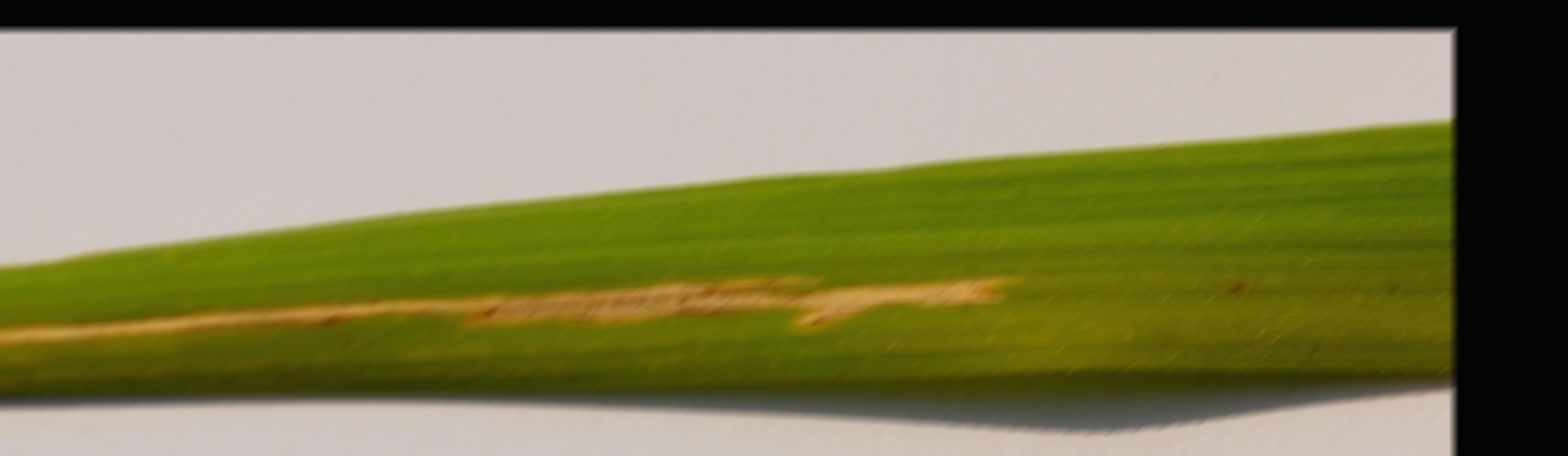Leaf_Blast: (1, 254, 1040, 349)
